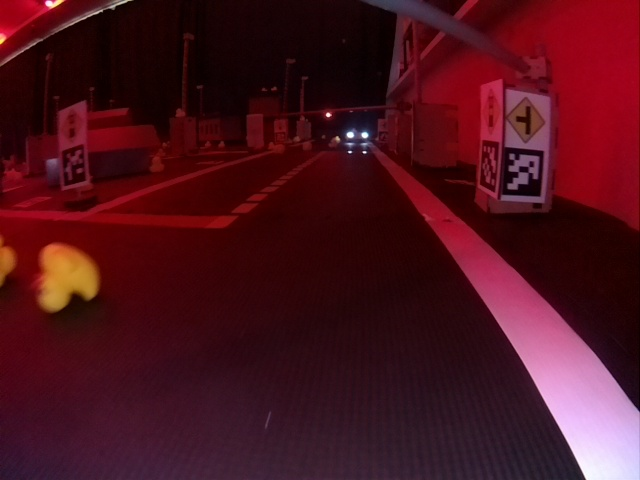Duckie: (37, 245, 96, 310)
Duckiebot: (345, 129, 370, 142)
Intersection sign: (509, 97, 545, 144)
QR code: (500, 148, 545, 198), (60, 144, 87, 186), (478, 139, 498, 191)
Signal sign: (481, 87, 499, 135), (60, 108, 84, 143)
